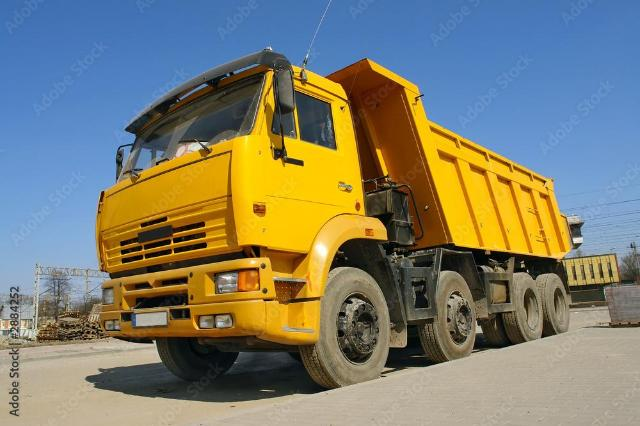truck: (64, 38, 592, 381)
